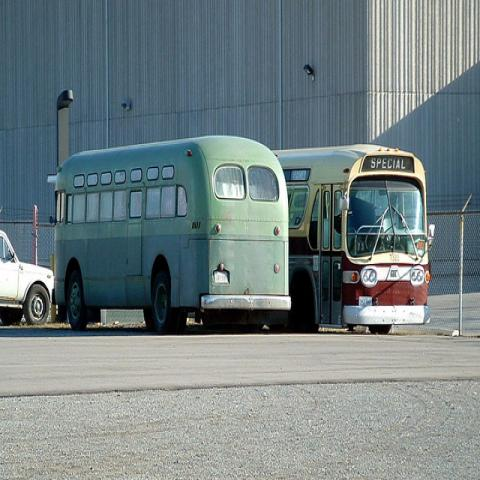bus: (52, 134, 289, 330), (272, 143, 436, 336)
truck: (1, 226, 57, 336)
